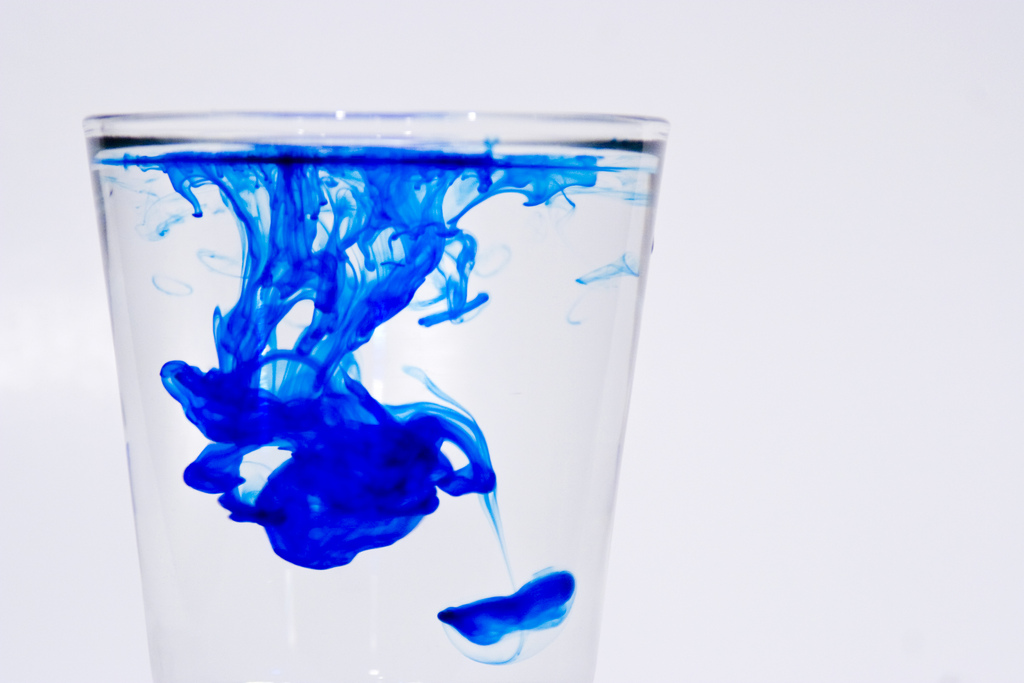glass of water: (66, 71, 662, 668)
